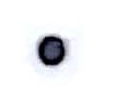cancer: (13, 13, 93, 86)
